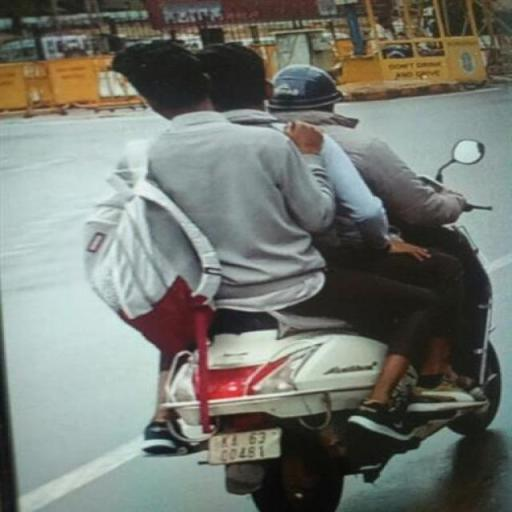tripple riding: (75, 35, 495, 329)
